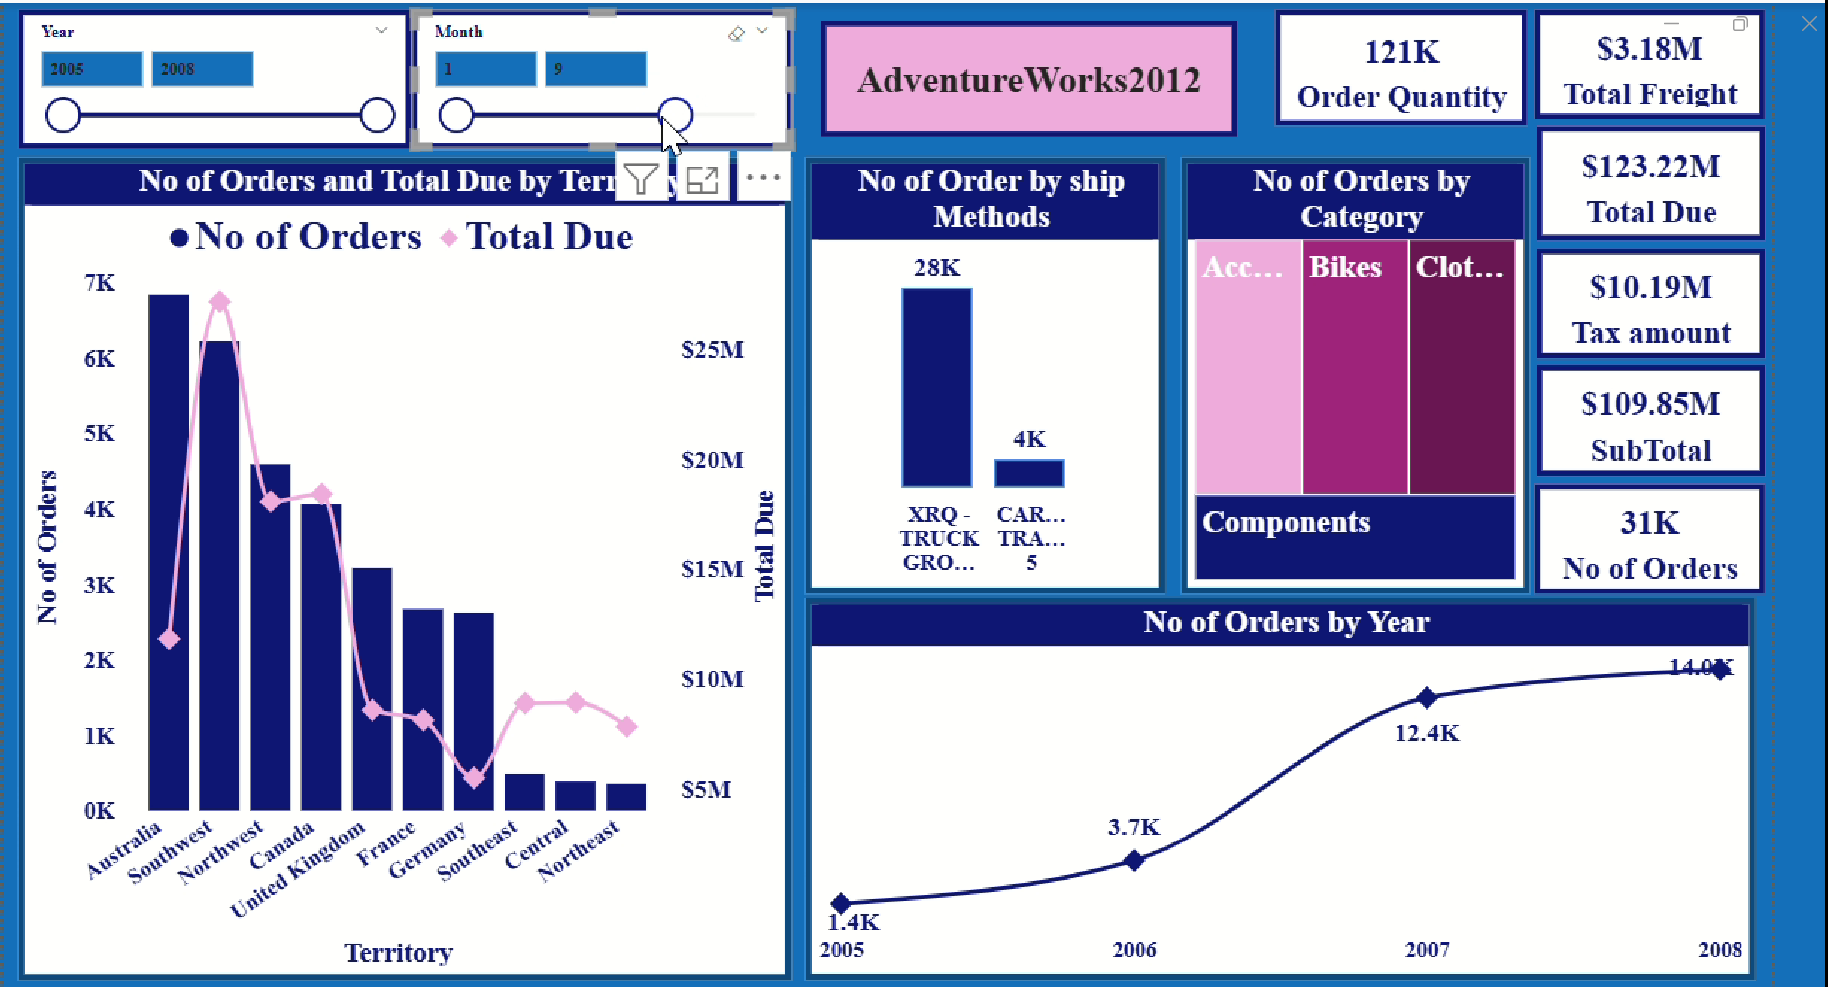

The dashboard page shown, as its layout file describes it:
{"tool":"powerbi","page":{"name":"Page 1","canvas":[1280,720],"ordinal":0},"visuals":[{"type":"card","title":"No. of Orders","fields":{"Values":["--All Measuers.No of Orders"]},"box":[1108.5,347.6,166.7,80],"z":0},{"type":"card","title":"No. of Orders","fields":{"Values":["--All Measuers.SubTotal"]},"box":[1110.2,262.6,165,80],"z":1000},{"type":"card","title":"No. of Orders","fields":{"Values":["--All Measuers.Tax amount"]},"box":[1110.8,178.1,165.2,79.3],"z":2000},{"type":"card","title":"No. of Orders","fields":{"Values":["--All Measuers.Total Due"]},"box":[1110.8,89.1,165.2,82.6],"z":3000},{"type":"card","title":"No. of Orders","fields":{"Values":["--All Measuers.Total Freight"]},"box":[1109.2,4.9,166.8,79.3],"z":4000},{"type":"lineChart","fields":{"Category":["Dates.Date.Variation.Date Hierarchy.Year","Dates.Date.Variation.Date Hierarchy.Quarter","Dates.Date.Variation.Date Hierarchy.Month","Dates.Date.Variation.Date Hierarchy.Day"],"Y":["--All Measuers.No of Orders"]},"box":[581.3,430.7,694.6,276.9],"z":5000},{"type":"treemap","fields":{"Values":["--All Measuers.No of Orders"],"Group":["Categories.Category","Subcategories.Subcategory","Products.Products"]},"box":[853.3,111.7,252.6,315.7],"z":6000},{"type":"slicer","fields":{"Values":["Dates.Month"]},"box":[296.3,4.9,275.3,100.4],"z":7000},{"type":"slicer","fields":{"Values":["Dates.Year"]},"box":[11.3,4.9,285,100.4],"z":8000},{"type":"columnChart","title":"No of Order by ship Methods","fields":{"Category":["ShipMethod.ShipMethod"],"Y":["--All Measuers.No of Orders"]},"box":[581.3,111.7,260.7,315.7],"z":9000},{"type":"card","fields":{"Values":["--All Measuers.Order Quantity"]},"box":[921.3,4.9,183,84.2],"z":10000},{"type":"textbox","box":[592.6,13,301.2,84.2],"z":11000},{"type":"lineClusteredColumnComboChart","fields":{"Y":["--All Measuers.No of Orders"],"Category":["Territories.Territory"],"Y2":["--All Measuers.Total Due"]},"box":[9.7,111.7,560.3,595.9],"z":12000}]}

Visuals, with their boxes on the page's 1280x720 design canvas (x1, y1, x2, y2). These are canvas units, not pixel positions in the 1828x987 screenshot, which may show the page scaled, cropped or inside an application window:
"No. of Orders" card: x1=1108, y1=348, x2=1275, y2=428
"No. of Orders" card: x1=1110, y1=263, x2=1275, y2=343
"No. of Orders" card: x1=1111, y1=178, x2=1276, y2=257
"No. of Orders" card: x1=1111, y1=89, x2=1276, y2=172
"No. of Orders" card: x1=1109, y1=5, x2=1276, y2=84
lineChart - Dates.Date.Variation.Date Hierarchy.Year x Dates.Date.Variation.Date Hierarchy.Quarter: x1=581, y1=431, x2=1276, y2=708
treemap - --All Measuers.No of Orders x Categories.Category: x1=853, y1=112, x2=1106, y2=427
slicer - Dates.Month: x1=296, y1=5, x2=572, y2=105
slicer - Dates.Year: x1=11, y1=5, x2=296, y2=105
"No of Order by ship Methods" columnChart: x1=581, y1=112, x2=842, y2=427
card - --All Measuers.Order Quantity: x1=921, y1=5, x2=1104, y2=89
textbox: x1=593, y1=13, x2=894, y2=97
lineClusteredColumnComboChart - --All Measuers.No of Orders x Territories.Territory: x1=10, y1=112, x2=570, y2=708
